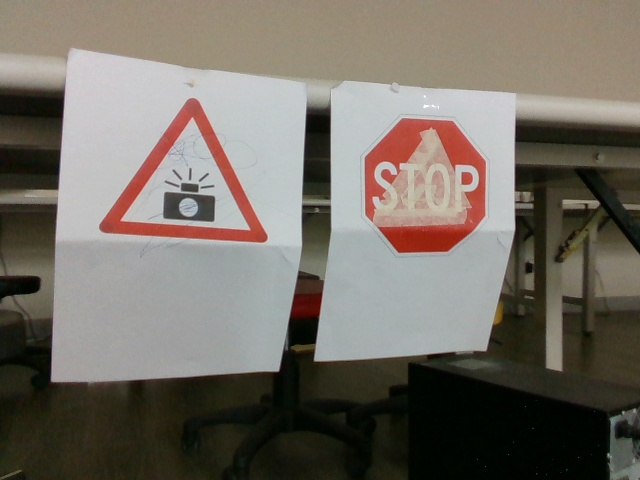camera: (102, 102, 263, 240)
stop: (362, 117, 487, 254)
